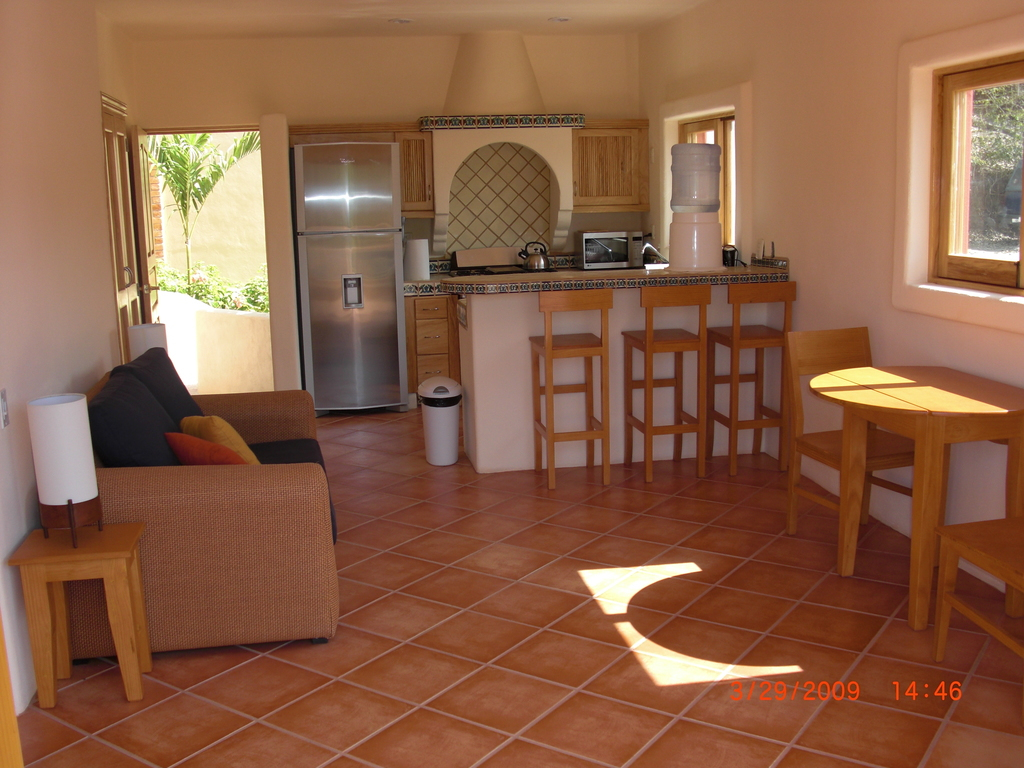door: (103, 109, 143, 319)
refrigerator door: (301, 239, 401, 412), (294, 150, 402, 228)
